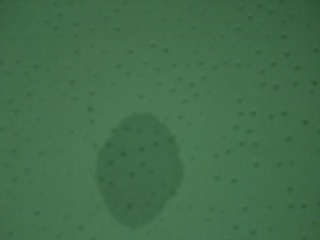Water_detected: (102, 128, 170, 210)
